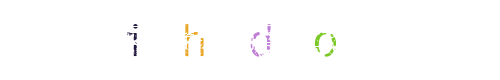D: (210, 0, 290, 80)
H: (194, 0, 274, 80)
I: (94, 0, 174, 80)
O: (222, 0, 302, 80)
